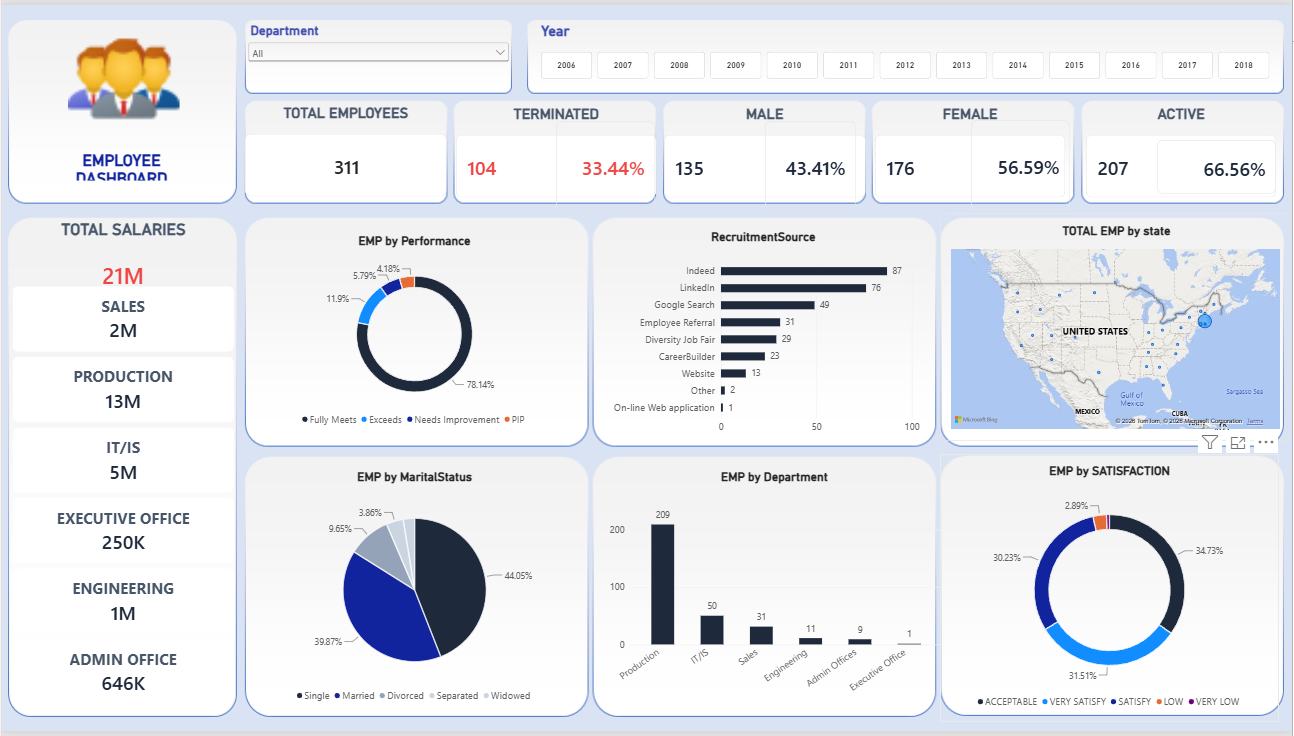

Layout of this report page (visuals, bound fields, positions):
{"tool":"powerbi","page":{"name":"Page 1","canvas":[1920,1080],"ordinal":0},"visuals":[{"type":"slicer","fields":{"Values":["EmployeesData.Department"]},"box":[361.7,26.7,398.3,105],"z":1},{"type":"advancedSlicerVisual","fields":{"Values":["EmployeesData.Year"]},"box":[801.7,26.7,1095,83.3],"z":2},{"type":"cardVisual","title":"TOTAL EMPLOYEES","fields":{"Data":["MEASUERS1.TOTAL EMP"]},"box":[361.7,148.8,300,136.7],"z":3},{"type":"cardVisual","title":"TERMINATED","fields":{"Data":["MEASUERS1.TERMINATED"]},"box":[675,150,298.3,136.7],"z":4},{"type":"cardVisual","title":"MALE","fields":{"Data":["MEASUERS1.MALE"]},"box":[985,150,300,136.7],"z":5},{"type":"cardVisual","title":"FEMALE","fields":{"Data":["MEASUERS1.FEMALE"]},"box":[1300,150,283.3,136.7],"z":6},{"type":"cardVisual","title":"ACTIVE","fields":{"Data":["MEASUERS1.ACTIVE"]},"box":[1613.3,150,283.3,136.7],"z":7},{"type":"cardVisual","title":"TERMINATED","fields":{"Data":["MEASUERS1.TERMINATED %"]},"box":[824.6,172.7,147.3,136.9],"z":8},{"type":"cardVisual","title":"TERMINATED","fields":{"Data":["MEASUERS1.MALE %"]},"box":[1135.6,172.7,135.4,136.9],"z":9},{"type":"cardVisual","title":"TERMINATED","fields":{"Data":["MEASUERS1.FEMALE %"]},"box":[1442.2,171.2,147.3,136.9],"z":10},{"type":"cardVisual","title":"TERMINATED","fields":{"Data":["MEASUERS1.ACTIVE %"]},"box":[1719.1,200.9,177.1,80.4],"z":11},{"type":"donutChart","title":"EMP by Performance","fields":{"Category":["EmployeesData.PerformanceScore"],"Y":["MEASUERS1.TOTAL EMP"]},"box":[361.7,326,504.6,321.5],"z":12},{"type":"clusteredBarChart","title":"RecruitmentSource","fields":{"Category":["EmployeesData.RecruitmentSource"],"Y":["MEASUERS1.TOTAL EMP"]},"box":[884.3,320,498.1,338.9],"z":13},{"type":"image","box":[31.3,26.8,299.5,165.5],"z":15},{"type":"textbox","box":[28.4,677.8,299.5,208.1],"z":16},{"type":"textbox","title":"EMPLOYEE DASHBOARD","box":[28.3,217.3,299.5,44.1],"z":17},{"type":"clusteredColumnChart","title":"EMP by Department","fields":{"Category":["EmployeesData.Department"],"Y":["MEASUERS1.TOTAL EMP"]},"box":[884.1,677.2,531.2,381.5],"z":18},{"type":"map","title":"TOTAL EMP by state","fields":{"Category":["EmployeesData.State"],"Size":["MEASUERS1.TOTAL EMP"]},"box":[1396.7,309,523.3,338.9],"z":19},{"type":"pieChart","title":"EMP by MaritalStatus","fields":{"Category":["EmployeesData.MaritalStatus"],"Y":["MEASUERS1.TOTAL EMP"]},"box":[361.7,677.2,505,381],"z":20},{"type":"donutChart","title":"EMP by SATISFACTION","fields":{"Category":["EmployeesData.SATISFACTION LEVEL"],"Y":["MEASUERS1.TOTAL EMP"]},"box":[1396.1,668.3,504.6,398.9],"z":21},{"type":"cardVisual","fields":{"Data":["MEASUERS1.SALES","MEASUERS1.PRODUCTION","MEASUERS1.IT/IS","MEASUERS1.EXECUTIVE OFFICE","MEASUERS1.ENGINEERING","MEASUERS1.ADMIN OFFICE"]},"box":[0,404.8,361.7,653.4],"z":22},{"type":"cardVisual","title":"TOTAL SALARIES","fields":{"Data":["Sum(EmployeesData.Salary)"]},"box":[11.9,320,337.9,116.1],"z":23}]}

Visuals, with their boxes in screenshot pixels (x1, y1, x2, y2), scaled from the page's 1920x1080 canvas onto the 1294x736 screenshot:
slicer - EmployeesData.Department: BBox(244, 18, 512, 90)
advancedSlicerVisual - EmployeesData.Year: BBox(540, 18, 1278, 75)
"TOTAL EMPLOYEES" cardVisual: BBox(244, 101, 446, 195)
"TERMINATED" cardVisual: BBox(455, 102, 656, 195)
"MALE" cardVisual: BBox(664, 102, 866, 195)
"FEMALE" cardVisual: BBox(876, 102, 1067, 195)
"ACTIVE" cardVisual: BBox(1087, 102, 1278, 195)
"TERMINATED" cardVisual: BBox(556, 118, 655, 211)
"TERMINATED" cardVisual: BBox(765, 118, 857, 211)
"TERMINATED" cardVisual: BBox(972, 117, 1071, 210)
"TERMINATED" cardVisual: BBox(1159, 137, 1278, 192)
"EMP by Performance" donutChart: BBox(244, 222, 584, 441)
"RecruitmentSource" clusteredBarChart: BBox(596, 218, 932, 449)
image: BBox(21, 18, 223, 131)
textbox: BBox(19, 462, 221, 604)
"EMPLOYEE DASHBOARD" textbox: BBox(19, 148, 221, 178)
"EMP by Department" clusteredColumnChart: BBox(596, 461, 954, 721)
"TOTAL EMP by state" map: BBox(941, 211, 1293, 442)
"EMP by MaritalStatus" pieChart: BBox(244, 461, 584, 721)
"EMP by SATISFACTION" donutChart: BBox(941, 455, 1281, 727)
cardVisual - MEASUERS1.SALES x MEASUERS1.PRODUCTION: BBox(0, 276, 244, 721)
"TOTAL SALARIES" cardVisual: BBox(8, 218, 236, 297)
